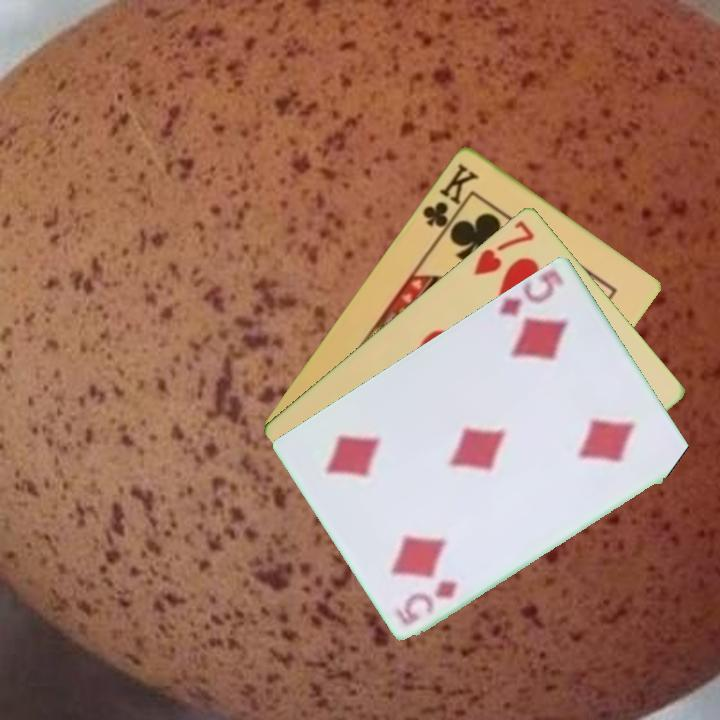5d: (394, 576, 460, 629), (494, 271, 564, 319)
7h: (470, 216, 537, 278)
Kc: (418, 159, 482, 239)
